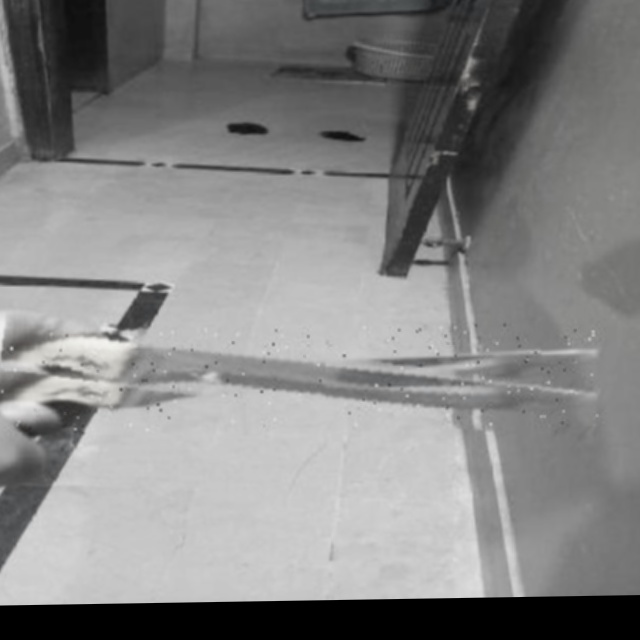Sharp-Object: (1, 323, 600, 433)
